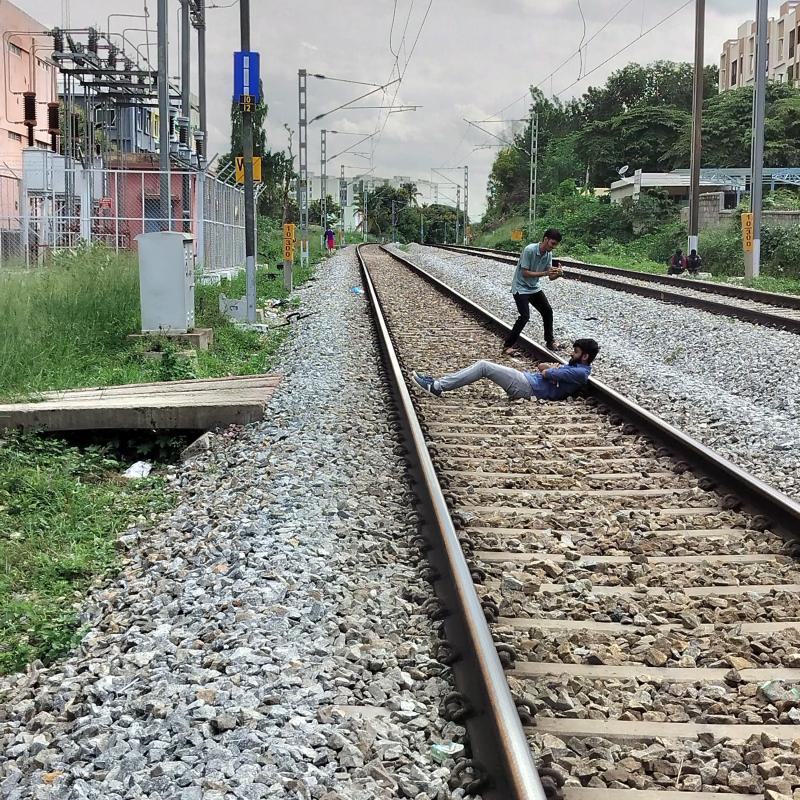sleeping: (396, 335, 601, 398)
